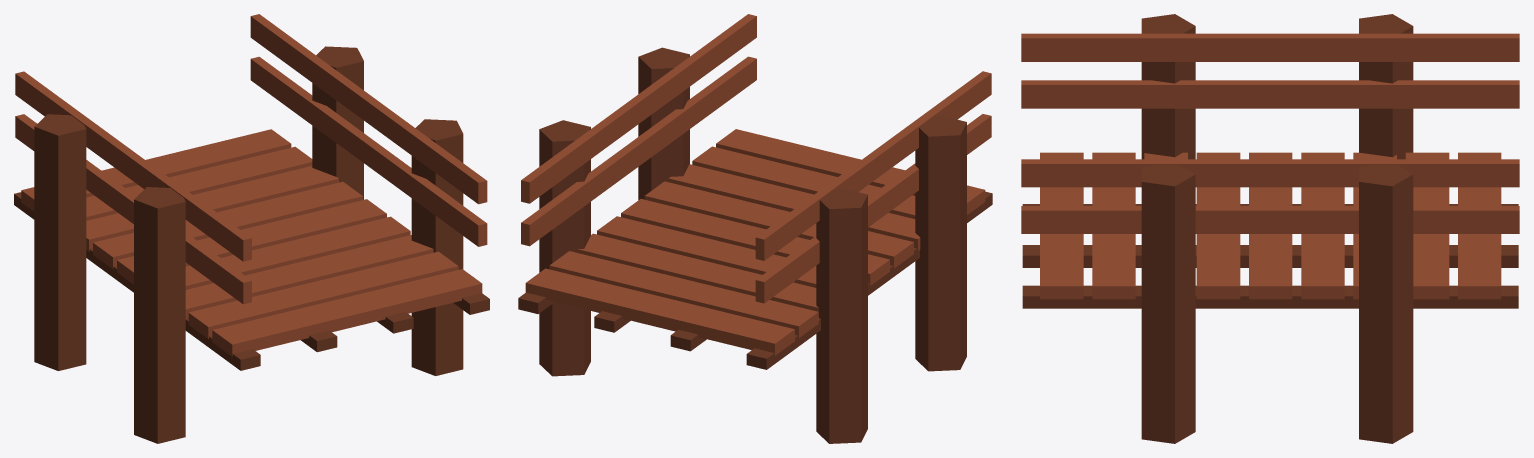
File: Trozo 1 Puente.fbx
3 views of the same model, side by side, from view 1: azimuth 30°, elevation 25°; view 2: azimuth 150°, elevation 25°; view 3: azimuth 270°, elevation 25° (orthographic). The views are drawn at different scales.
Visible parts, largest first — view 1: Cube.001, Cylinder.002, Cylinder, Cylinder.001, Cube.004, Cube.003, Cube.006, Cube.005, Cylinder.003, Cube; view 2: Cube.001, Cylinder.002, Cylinder, Cylinder.003, Cube.004, Cube.003, Cube.006, Cube.005, Cylinder.001, Cube; view 3: Cube.001, Cylinder.001, Cylinder.003, Cube.006, Cube.005, Cube.004, Cube.003, Cube, Cylinder, Cylinder.002.
Boxes of the visible parts, x1,y1,x2,y2 form: Cube.001: (21, 129, 482, 356); Cylinder.002: (34, 114, 86, 370); Cylinder: (134, 187, 185, 443); Cylinder.001: (411, 119, 463, 375); Cube.004: (250, 14, 487, 204); Cube.003: (250, 56, 487, 246); Cube.006: (15, 71, 251, 261); Cube.005: (15, 114, 251, 304); Cylinder.003: (312, 46, 363, 199); Cube: (14, 192, 489, 370); Cube.001: (525, 129, 985, 355); Cylinder.002: (816, 187, 867, 443); Cylinder: (915, 115, 966, 371); Cylinder.003: (539, 120, 590, 376); Cube.004: (521, 14, 756, 203); Cube.003: (521, 56, 756, 246); Cube.006: (755, 71, 991, 260); Cube.005: (755, 114, 991, 303); Cylinder.001: (638, 47, 689, 199); Cube: (518, 191, 992, 369); Cube.001: (1040, 152, 1501, 299); Cylinder.001: (1141, 165, 1195, 443); Cylinder.003: (1359, 165, 1413, 443); Cube.006: (1021, 33, 1519, 61); Cube.005: (1021, 80, 1519, 108); Cube.004: (1021, 159, 1519, 187); Cube.003: (1021, 206, 1519, 233); Cube: (1022, 204, 1518, 308); Cylinder: (1141, 14, 1195, 159); Cylinder.002: (1359, 14, 1413, 159).
Bounding box in the file's own units: 563 × 394 × 689.
